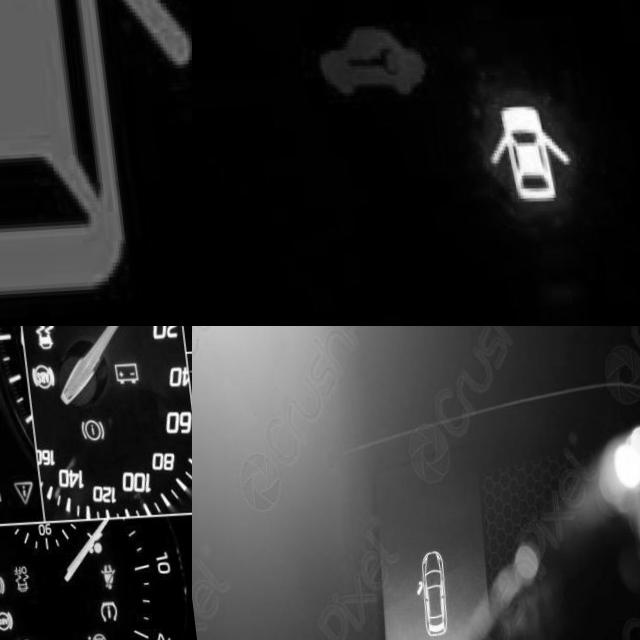Electronic Power Steering: (73, 635, 97, 640)
Seat Belt: (90, 568, 108, 594)
